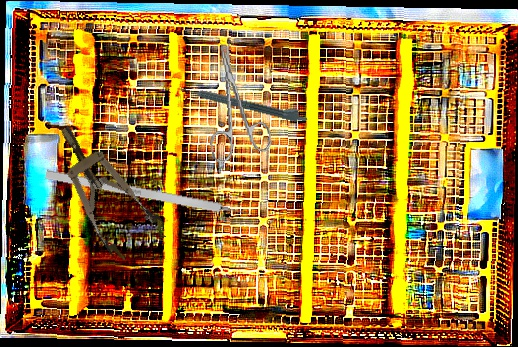Handpiece: (179, 79, 310, 125)
Hook Surgical: (45, 169, 262, 221)
Iris Scissors: (196, 37, 274, 164)
Speculum: (39, 110, 171, 268)
